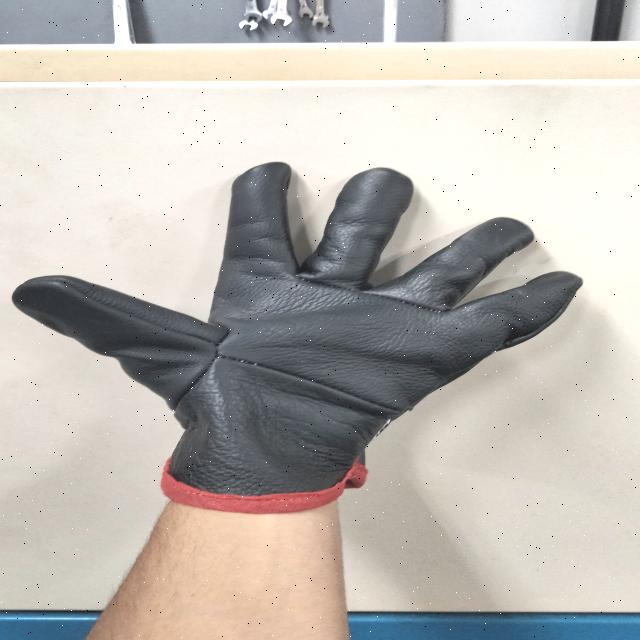Gloves: (10, 160, 582, 500)
